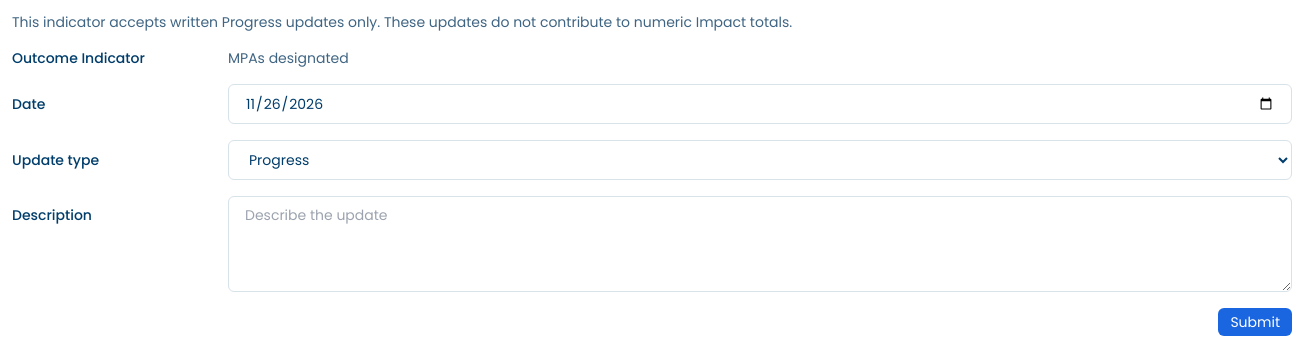
Test: a Progress-only outcome allows written submissions and stays Progress-only after saving
The image size is (1304, 353).
Expected: the dropdown labelled "Update type" shows "Progress", [228, 140, 1292, 180]
Type "Written-only progress" into the text box labelled "Description". click: (760, 244)
box: [228, 196, 1292, 292]
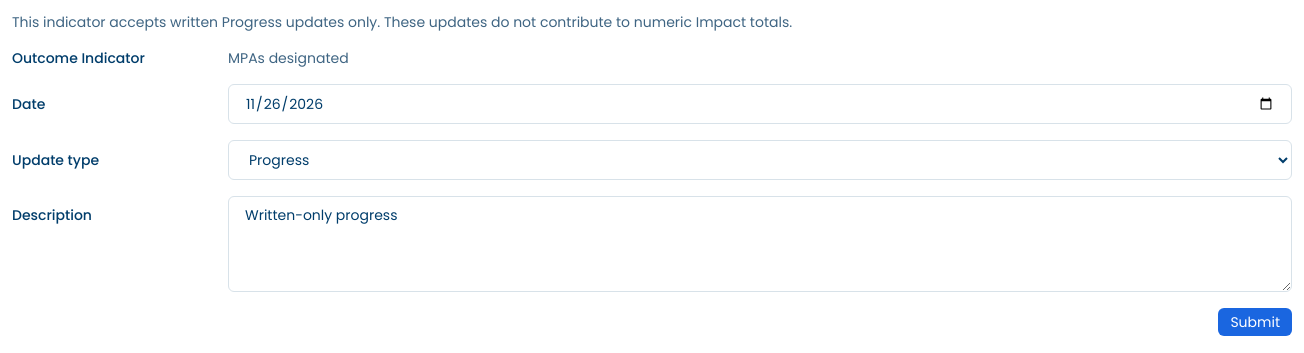
Click the button "Submit". click: (1255, 322)
box: [1218, 308, 1292, 336]
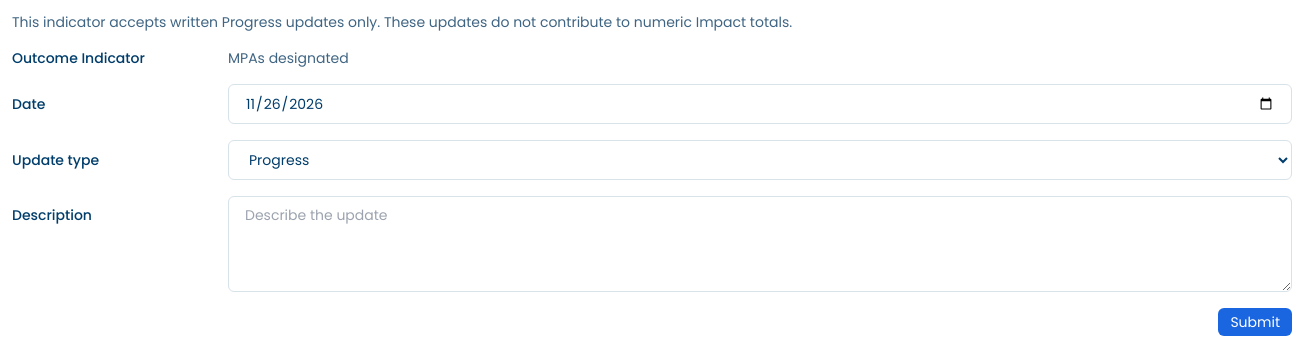
Expected: the dropdown labelled "Update type" shows "Progress", [228, 140, 1292, 180]
Expected: the text box labelled "Description" is empty, [228, 196, 1292, 292]
